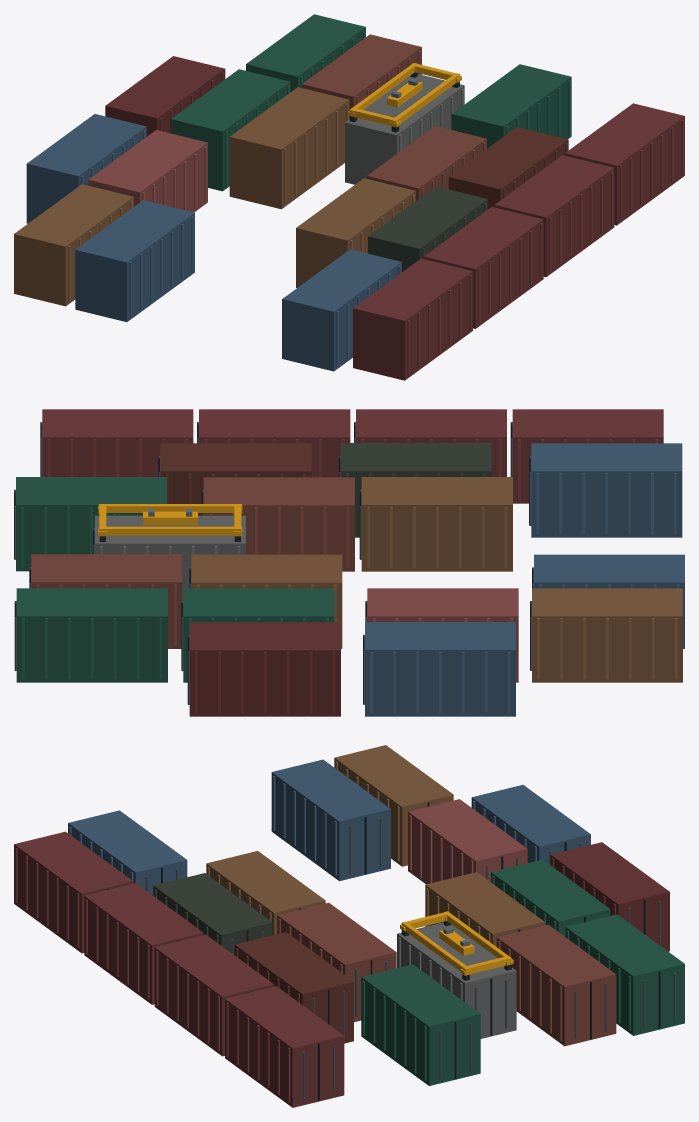
Rendered from containers-ne-sw-02.glb.
3 renders of one model, top to bottom at view 1: azimuth 30°, elevation 25°; view 2: azimuth 150°, elevation 25°; view 3: azimuth 270°, elevation 25°, orthographic. The views are drawn at different scales.
Visible parts, largest first — view 1: containers-ne-sw-02; view 2: containers-ne-sw-02; view 3: containers-ne-sw-02.
Boxes of the visible parts, bbox=[...] form: containers-ne-sw-02: bbox=[14, 14, 684, 380]; containers-ne-sw-02: bbox=[14, 409, 684, 716]; containers-ne-sw-02: bbox=[14, 745, 684, 1107].
Bounding box in the file's own units: 69.88 × 8.25 × 65.32.
